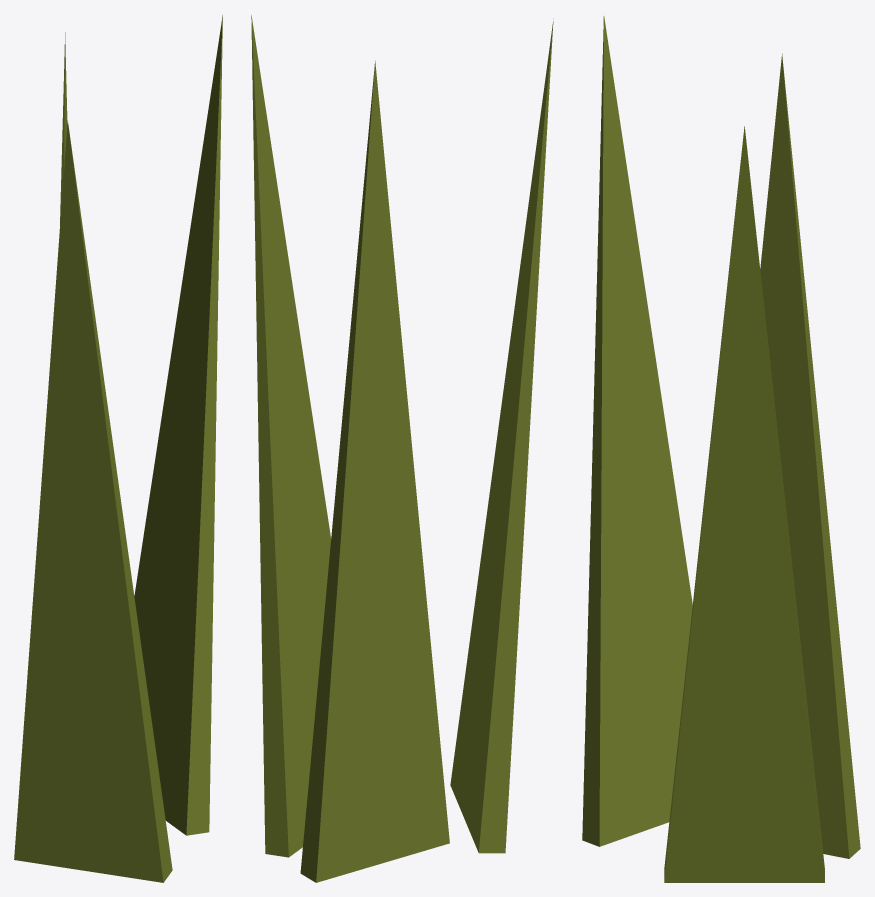
File: Grass.FBX
The picture shows the model from 3 angles, left to right: view 1: azimuth 30°, elevation 25°; view 2: azimuth 150°, elevation 25°; view 3: azimuth 270°, elevation 25°; orthographic projection. The views are drawn at different scales.
Visible parts, largest first — view 1: Box097, Box095, Box096; view 2: Box096, Box095, Box097; view 3: Box095, Box097, Box096.
Part boxes in pixels (box(x1,y1,x2,y2)): Box097: box(14, 120, 172, 882); Box095: box(134, 15, 222, 835); Box096: box(60, 32, 67, 224); Box096: box(300, 60, 449, 882); Box095: box(251, 15, 331, 857); Box097: box(450, 19, 553, 853); Box095: box(664, 126, 824, 882); Box097: box(582, 16, 692, 846); Box096: box(760, 53, 860, 858).
Size of the model in its own units: 22.87 by 74.62 by 23.91.
1 material, 1 textured.
